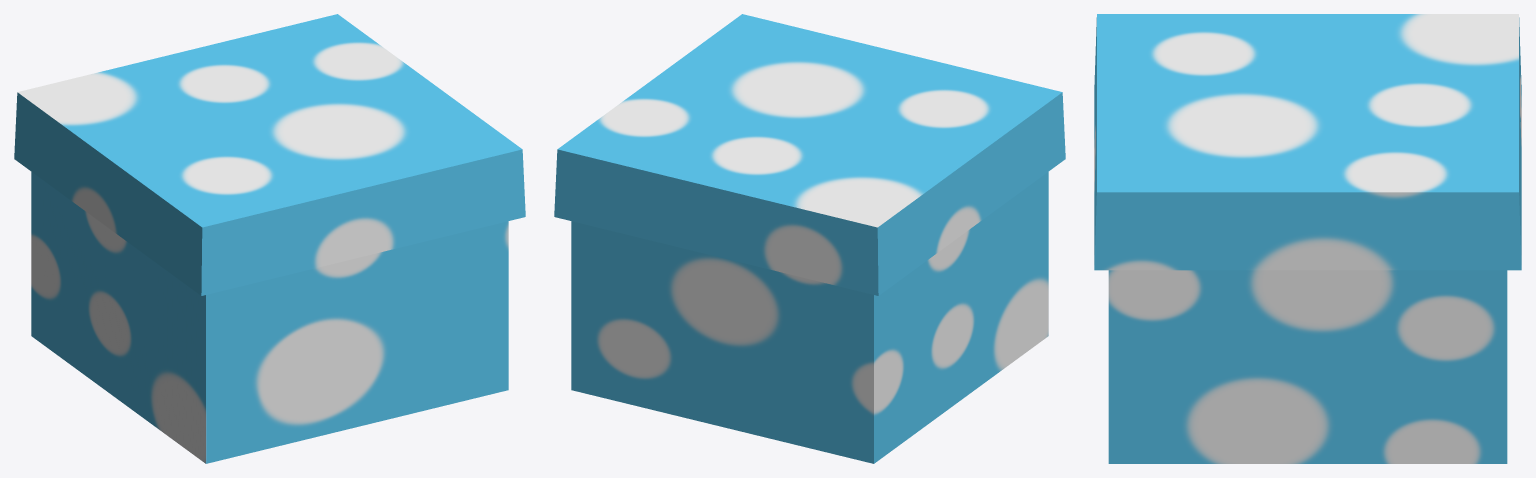
File: GiftBox_5.fbx
3 renders of one model, left to right at view 1: azimuth 30°, elevation 25°; view 2: azimuth 150°, elevation 25°; view 3: azimuth 270°, elevation 25°, orthographic. The views are drawn at different scales.
Parts seen in each view (by area): view 1: Giftbox five; view 2: Giftbox five; view 3: Giftbox five.
Part boxes in pixels (x1,y1,x2,y2): Giftbox five: [14, 14, 525, 463]; Giftbox five: [554, 14, 1065, 463]; Giftbox five: [1094, 14, 1521, 463].
Bounding box in the file's own units: 139 × 99.05 × 139.
